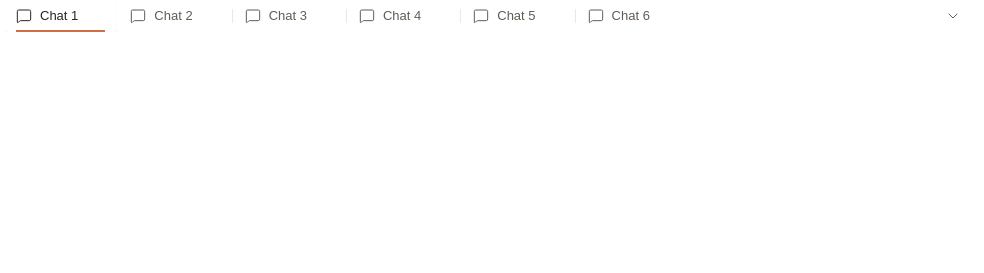
ChatTabStrip — rung 3: the ▾ overflow menu › lists every tab, so the menu is the whole strip and not just its tail
Press the mouse on the button with test id "chat-tab-overflow-trigger" at [953, 16], box [941,4,965,28]
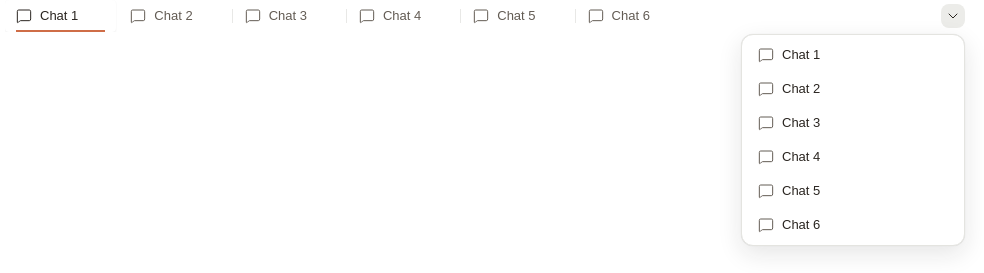
Check: the menu item with test id "chat-tab-overflow-item-tab-6" is shown, box [758,217,820,233]
